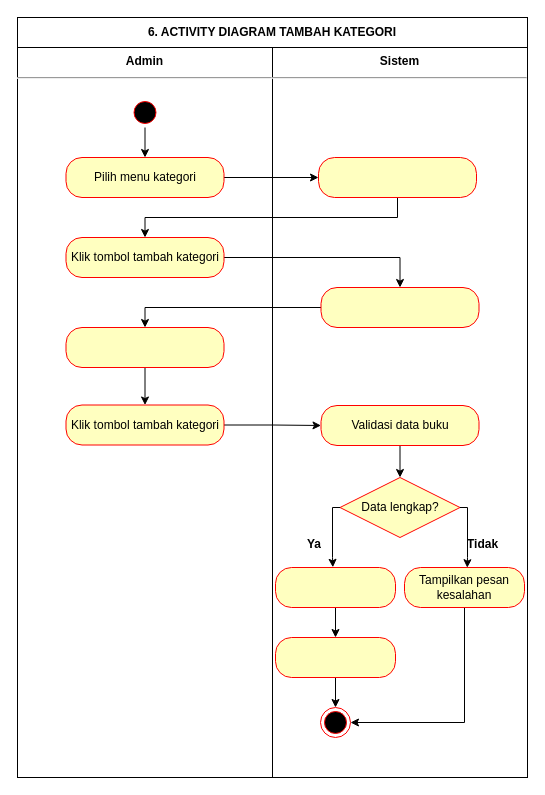
Some shapes in this 545 by 795 pixel diagram are drawn without their labels. The shapes that lost their labels are listed below. From the top down, each one's centre as x and y in pixels, then its label:
At point (397, 177): "Menampilkan halaman daftar kategori buku".
At point (399, 307): "Form tambah kategori ditampilkan".
At point (144, 347): "Mengisi nama kategori".
At point (335, 587): "Simpan ke database".
At point (335, 657): "Tampilkan halaman daftar kategori buku".
